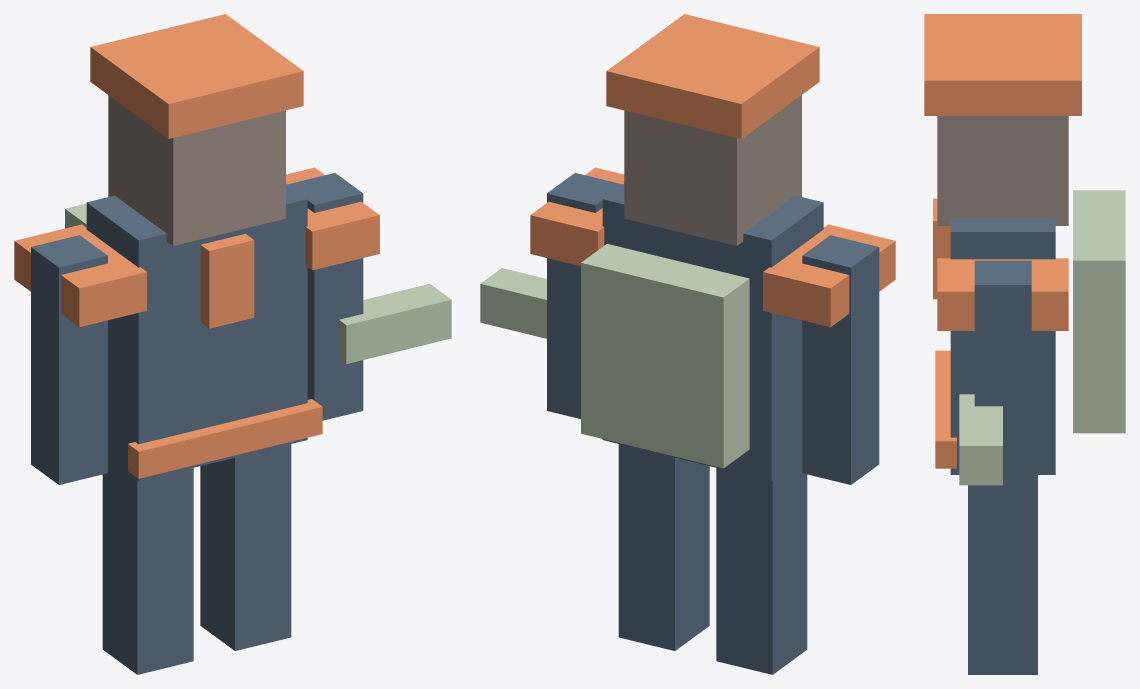
File: 13_ossa_trenchmark_guide_from_central.glb
3 renders of one model, left to right at view 1: azimuth 30°, elevation 25°; view 2: azimuth 150°, elevation 25°; view 3: azimuth 270°, elevation 25°, orthographic.
Visible parts, largest first — view 1: Ossa Trenchmark, Guide from Central; view 2: Ossa Trenchmark, Guide from Central; view 3: Ossa Trenchmark, Guide from Central.
Boxes of the visible parts, x1,y1,x2,y2 form: Ossa Trenchmark, Guide from Central: (14,14,451,674); Ossa Trenchmark, Guide from Central: (480,14,895,674); Ossa Trenchmark, Guide from Central: (924,14,1125,674).
Size of the model in its own units: 1.11 by 1.62 by 0.5001.
